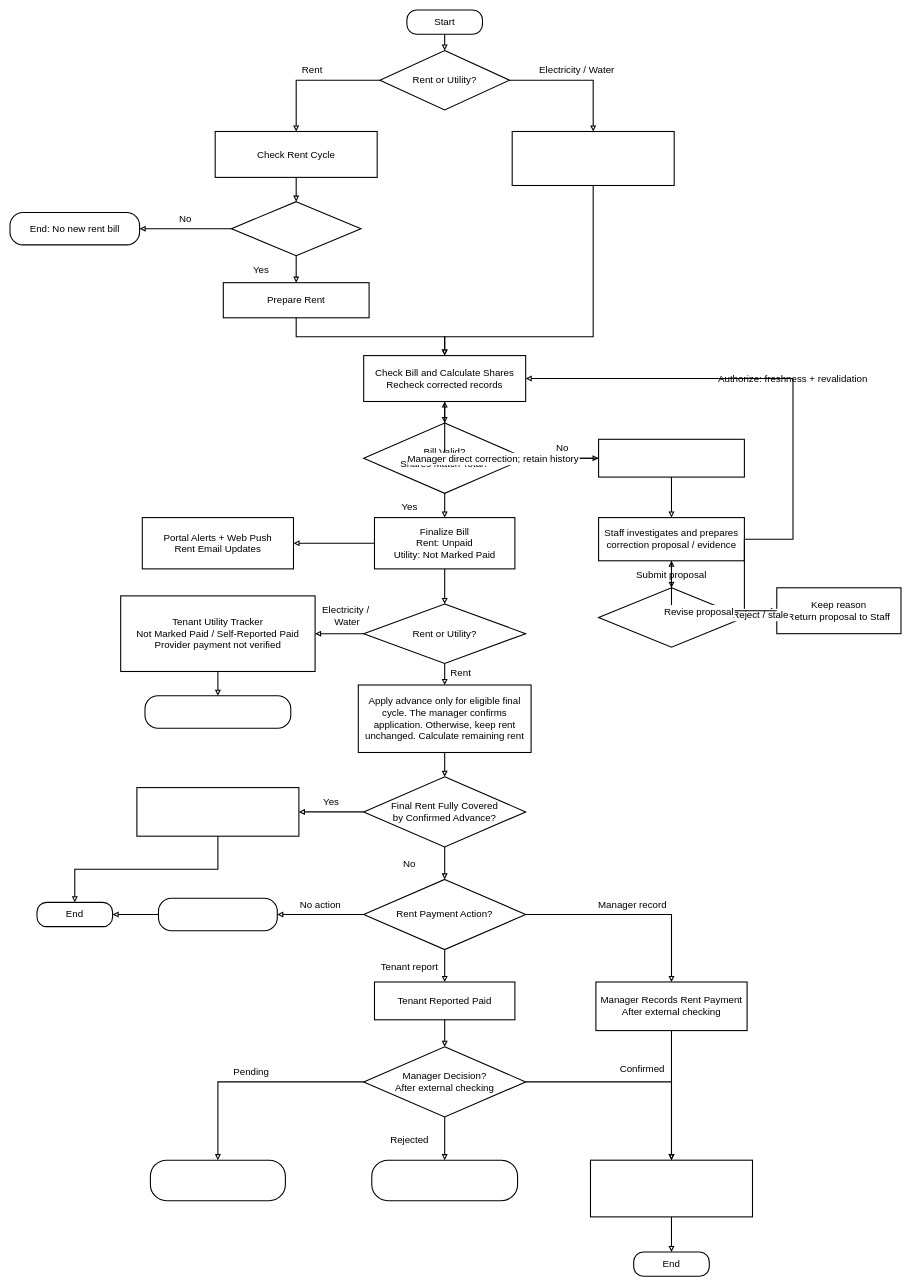
Image size: 910x1286. Some labels were removed from this diagram. The shapes that lost their labels are listed below. From the top down, each one's centre as x and y in pixels, then its label:
At (x=592, y=158): "Receive Utility Bill Email or upload Extract details (Text/OCR)".
At (x=296, y=228): "Eligible cycle?".
At (x=671, y=457): "Bills for Review Block finalization".
At (x=671, y=617): "Manager decision?".
At (x=217, y=711): "End: Tracking Saved".
At (x=217, y=811): "Paid: Reuse Original Payment and Receipt No new cash payment".
At (x=218, y=914): "Remains Unpaid".
At (x=218, y=1180): "Remains Tenant Reported Paid".
At (x=444, y=1180): "Keep Rejection Reason Return to Unpaid".
At (x=671, y=1188): "Paid: Confirmed Rent Receipt Reuse receipt on retry Send rent email notice".
